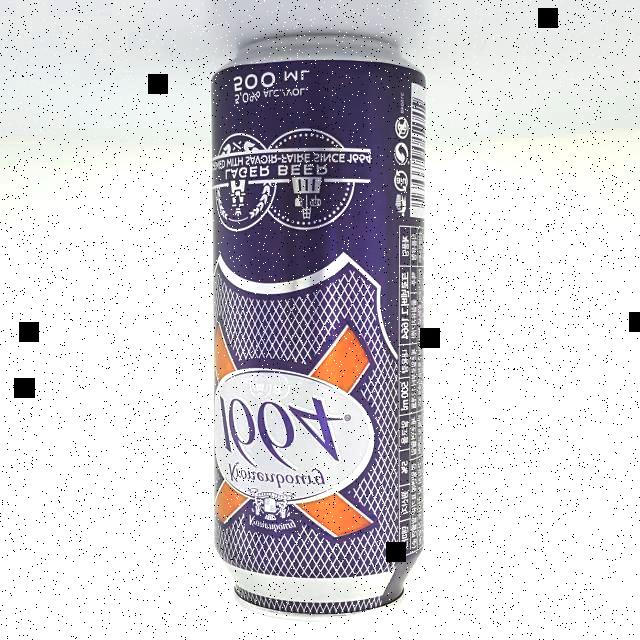can: (210, 35, 426, 622)
